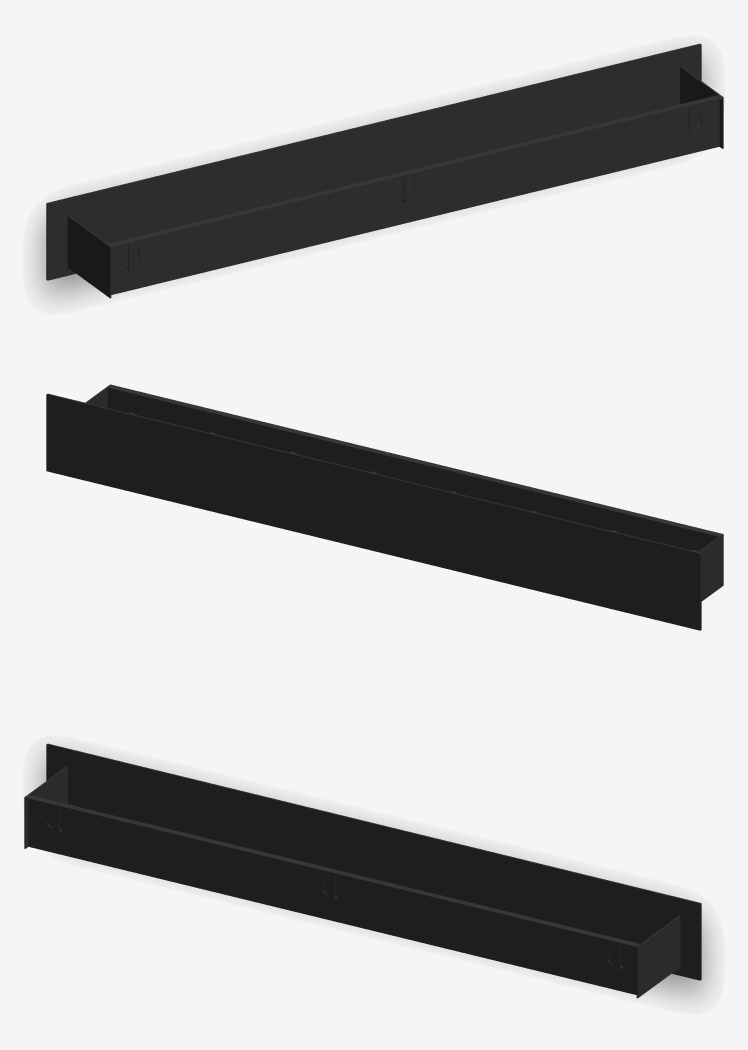
File: skyline-hook.ce70738b4f.ar.glb
The picture shows the model from 3 angles, top to bottom: view 1: azimuth 30°, elevation 25°; view 2: azimuth 150°, elevation 25°; view 3: azimuth 330°, elevation 25°; orthographic projection.
Parts seen in each view (by area): view 1: NAUO1, object 2; view 2: NAUO1; view 3: NAUO1, object 2.
Boxes of the visible parts, x1=… form: NAUO1: x1=46, y1=43, x2=723, y2=298; object 2: x1=38, y1=61, x2=708, y2=295; NAUO1: x1=46, y1=384, x2=723, y2=630; NAUO1: x1=24, y1=743, x2=701, y2=998; object 2: x1=39, y1=761, x2=709, y2=995.
Size of the model in its own units: 0.88 by 0.17 by 0.092.
2 materials, 1 textured.
